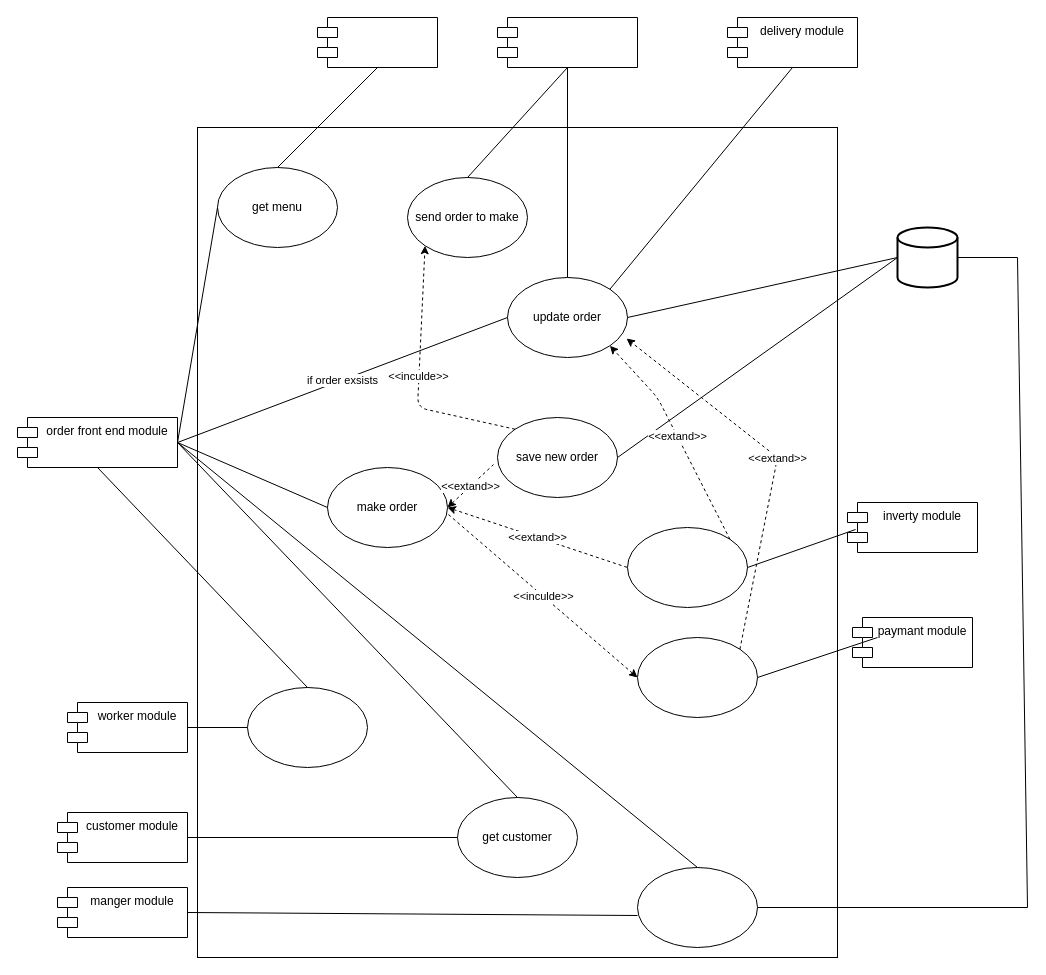
This 1046x975 diagram has some shape labels left out. Each missing label, with the box of its shape:
check if worker in shift: (246, 686, 368, 768)
get order: (636, 866, 758, 948)
make module: (496, 16, 638, 68)
manuModule: (316, 16, 438, 68)
order DB: (896, 226, 958, 288)
process payment: (636, 636, 758, 718)
update invetry: (626, 526, 748, 608)
